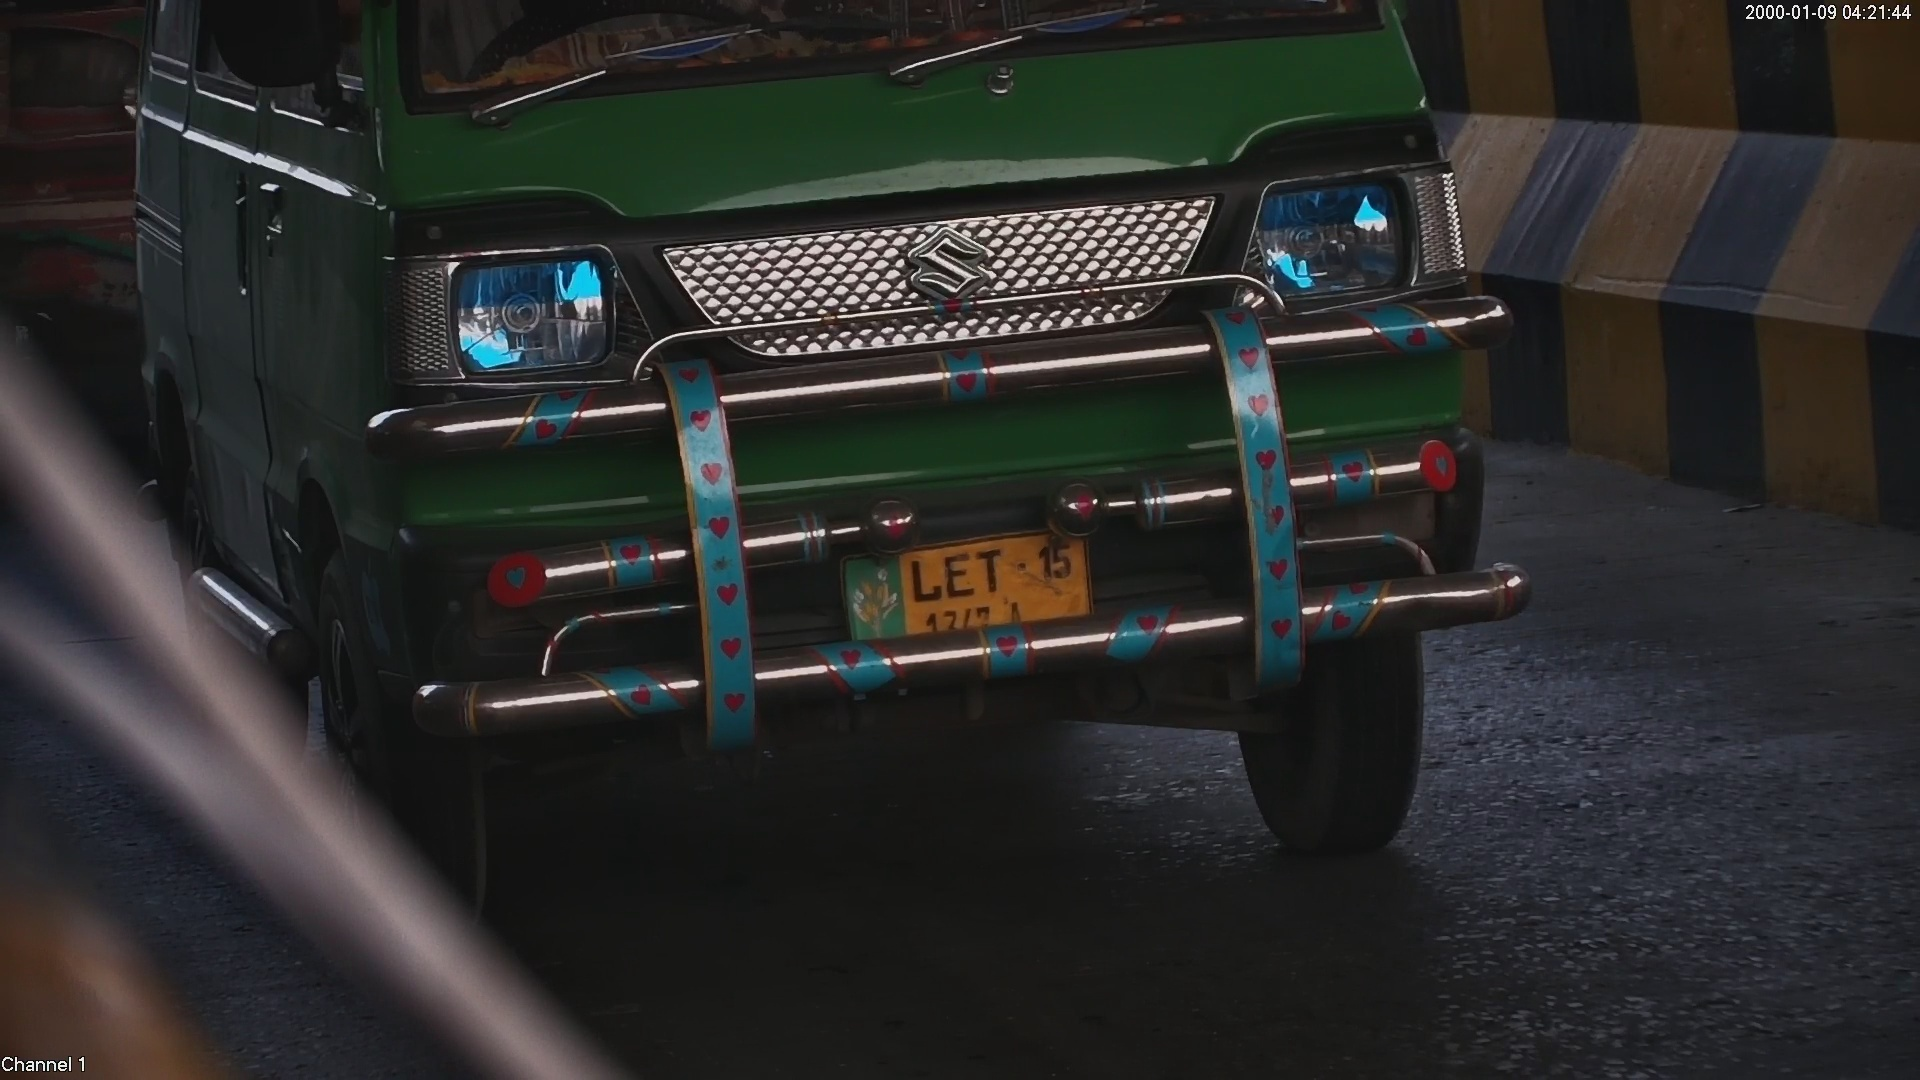Number_Plate: (817, 509, 1119, 657)
Undefined: (369, 231, 660, 394), (1213, 153, 1473, 333), (856, 207, 1041, 312)
